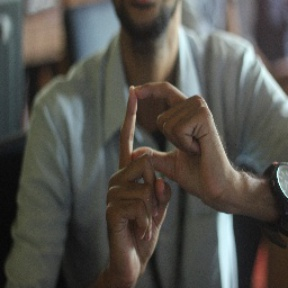D: (112, 78, 209, 193)
